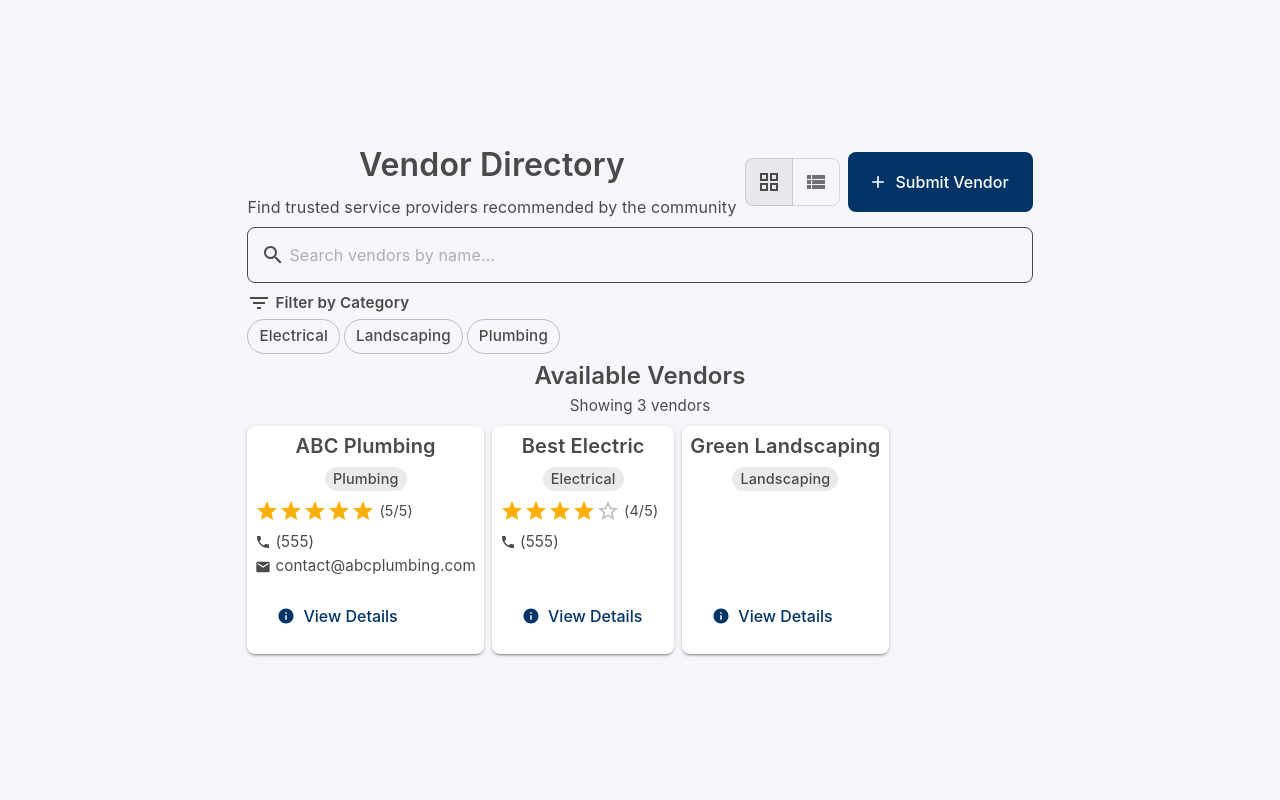
Scenario: VendorsPage › Detail Drawer › opens detail drawer when "View Details" clicked
Click the button "View Details" below "contact@abcplumbing.com" at [339, 616], box x1=255 y1=586 x2=422 y2=646
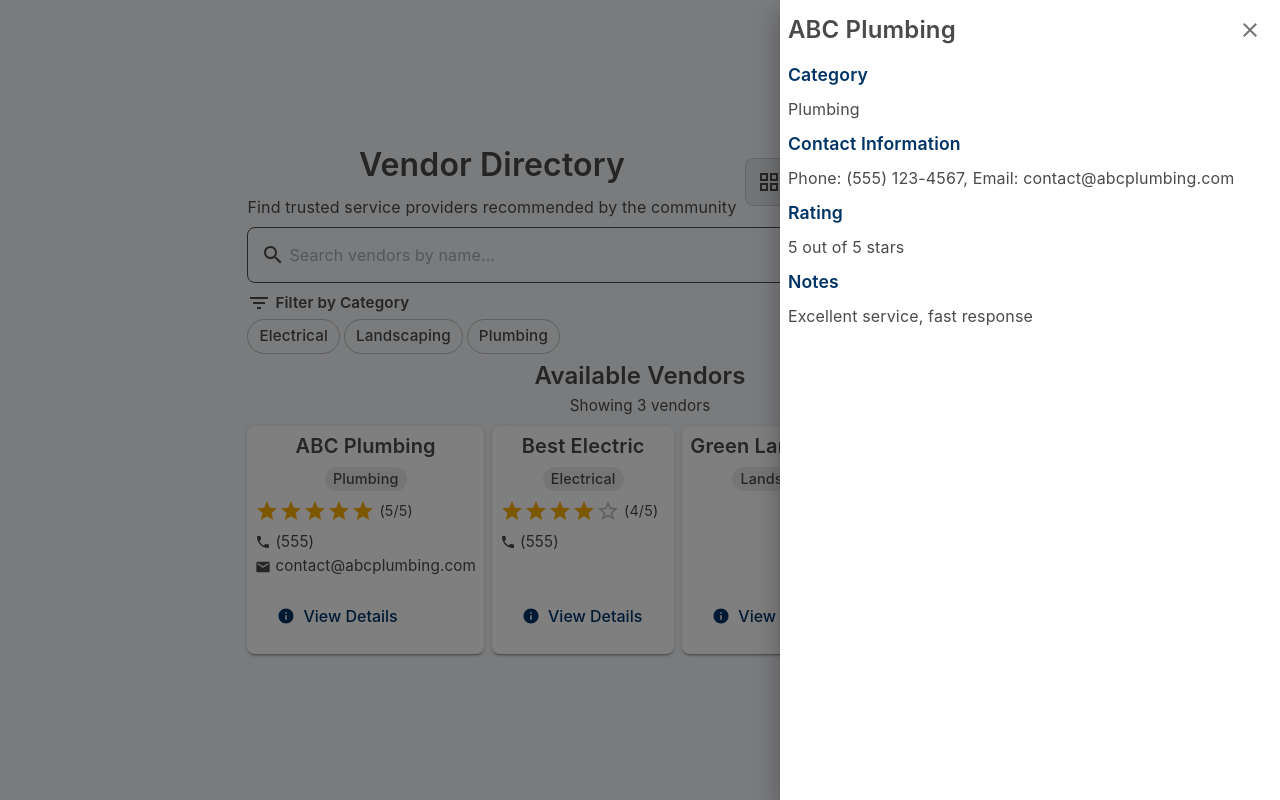
Check: the heading "ABC Plumbing" is shown, box x1=788 y1=16 x2=956 y2=44
